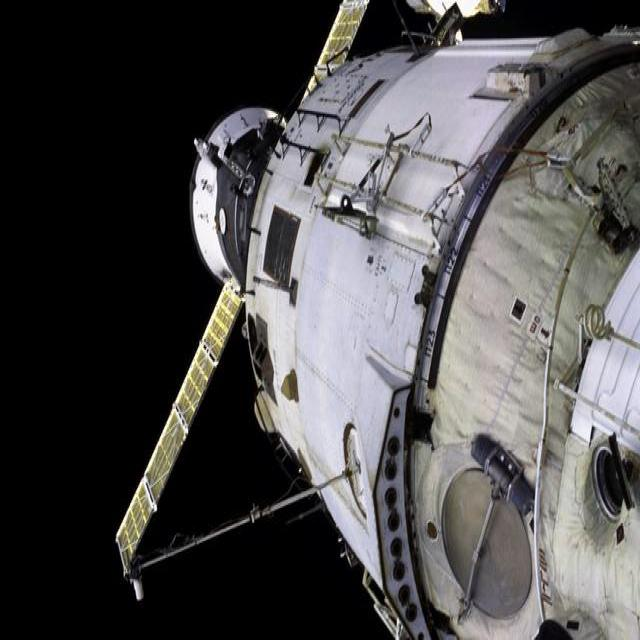satellite: (123, 0, 640, 640)
